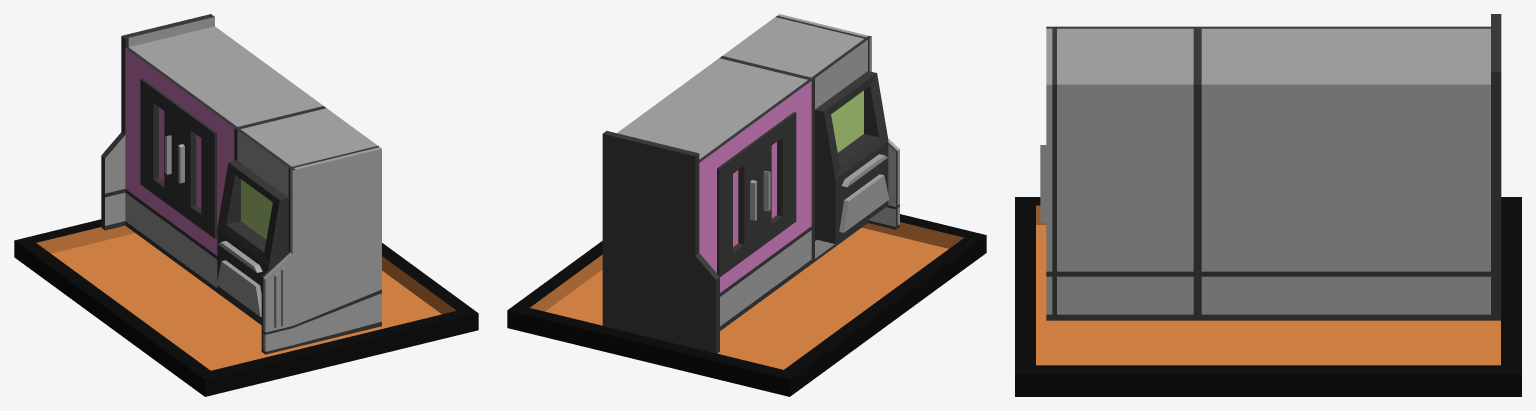
Rendered from SurfaceArea_Molding.fbx.
The picture shows the model from 3 angles, left to right: view 1: azimuth 30°, elevation 25°; view 2: azimuth 150°, elevation 25°; view 3: azimuth 270°, elevation 25°; orthographic projection. The views are drawn at different scales.
Visible parts, largest first — view 1: Cube.319, Molding, Cube.320, Cube.321; view 2: Cube.319, Molding, Cube.321, Cube.320; view 3: Cube.319, Molding.
Boxes of the visible parts, x1,y1,x2,y2 form: Cube.319: (101, 14, 381, 354); Molding: (14, 219, 478, 396); Cube.320: (125, 48, 179, 228); Cube.321: (177, 88, 234, 255); Cube.319: (602, 14, 899, 353); Molding: (507, 214, 986, 396); Cube.321: (755, 81, 811, 266); Cube.320: (699, 122, 757, 292); Cube.319: (1040, 14, 1501, 320); Molding: (1015, 197, 1521, 396).
Bounding box in the file's own units: 2.61 × 3.15 × 1.85.
